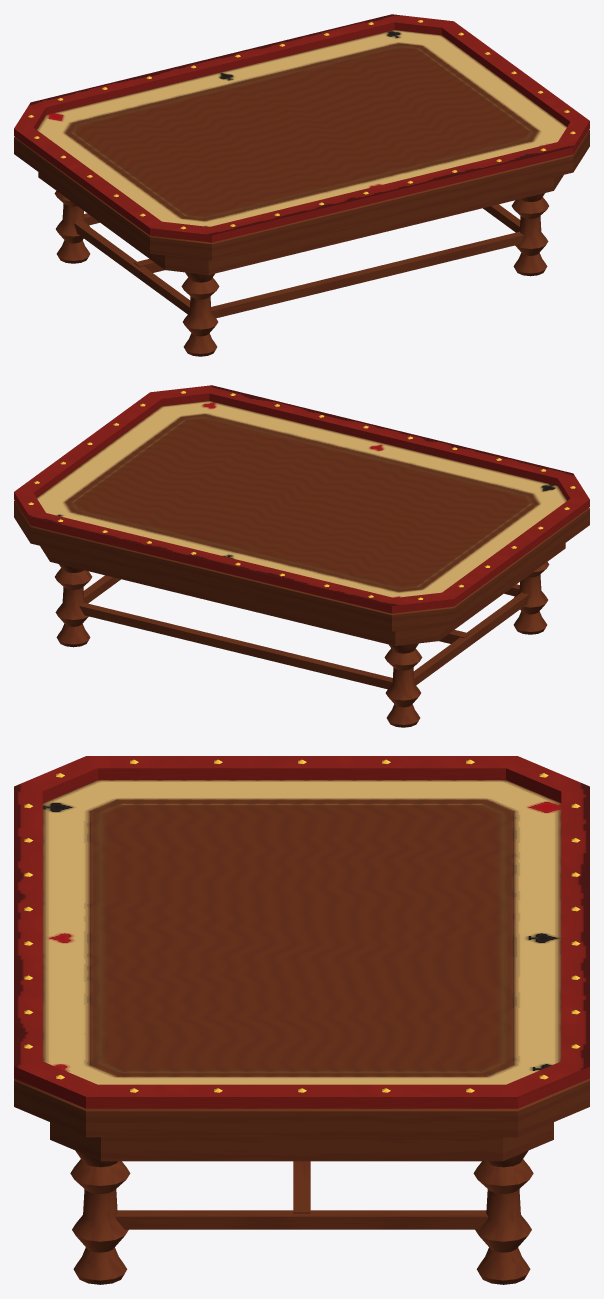
Rendered from Table_Gambling.fbx.
3 views of the same model, one above another, from view 1: azimuth 30°, elevation 25°; view 2: azimuth 150°, elevation 25°; view 3: azimuth 270°, elevation 25° (orthographic). The views are drawn at different scales.
Visible parts, largest first — view 1: Table_Gambling; view 2: Table_Gambling; view 3: Table_Gambling.
Boxes of the visible parts, x1,y1,x2,y2 form: Table_Gambling: [14, 14, 589, 356]; Table_Gambling: [14, 385, 589, 727]; Table_Gambling: [14, 756, 589, 1284].
Size of the model in its own units: 5.6 by 1.71 by 4.
1 material, 1 textured.
